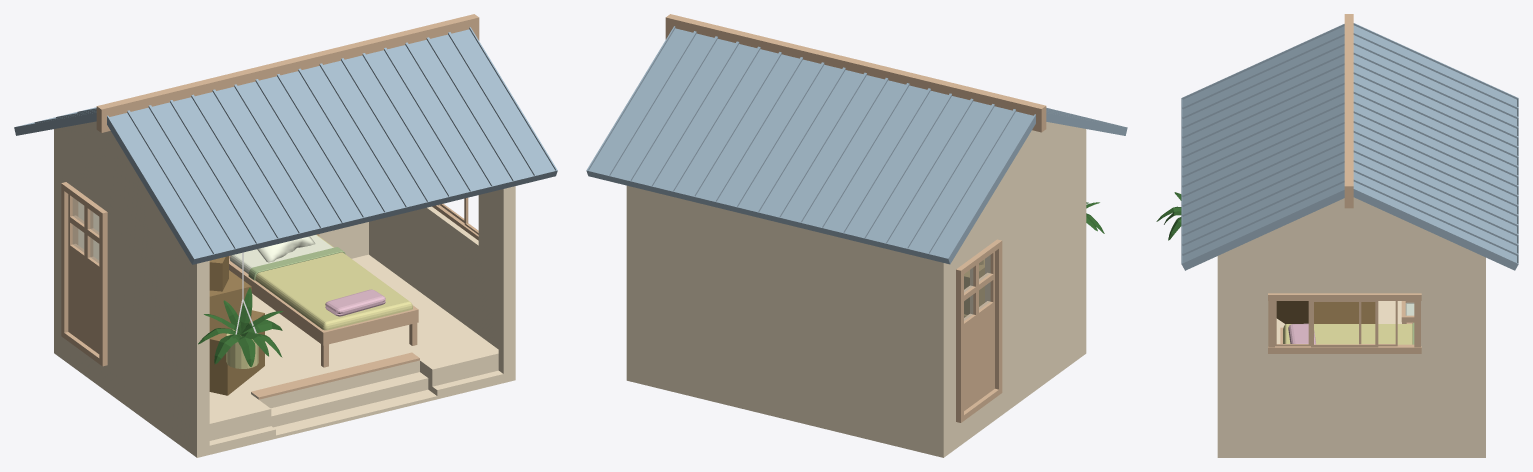
Rendered from lilhouse-top-floor.glb.
3 views of the same model, side by side, from view 1: azimuth 30°, elevation 25°; view 2: azimuth 150°, elevation 25°; view 3: azimuth 270°, elevation 25° (orthographic). The views are drawn at different scales.
Visible parts, largest first — view 1: house.002, MATTRESS, door, bedframe, PLANT, Cube.002, Cube.003, FOLDED BLANKET, hanging plant pot, PILLOW, Cube.007, WINDOW; view 2: house.002, door; view 3: house.002, WINDOW, MATTRESS, Cube.002, FOLDED BLANKET.
Boxes of the visible parts, <box> form: house.002: <box>14,14,557,457</box>; MATTRESS: <box>230,234,412,330</box>; door: <box>61,182,107,366</box>; bedframe: <box>229,234,418,367</box>; PLANT: <box>198,288,283,366</box>; Cube.002: <box>209,310,264,395</box>; Cube.003: <box>209,270,251,331</box>; FOLDED BLANKET: <box>325,289,385,316</box>; hanging plant pot: <box>226,252,258,368</box>; PILLOW: <box>257,236,315,262</box>; Cube.007: <box>209,256,228,291</box>; WINDOW: <box>432,197,478,240</box>; house.002: <box>586,14,1127,457</box>; door: <box>956,239,1002,422</box>; house.002: <box>1181,14,1518,457</box>; WINDOW: <box>1268,293,1421,353</box>; MATTRESS: <box>1283,322,1414,344</box>; Cube.002: <box>1276,301,1375,324</box>; FOLDED BLANKET: <box>1288,323,1315,344</box>.
Size of the model in its own units: 5.99 by 4.63 by 5.32.
